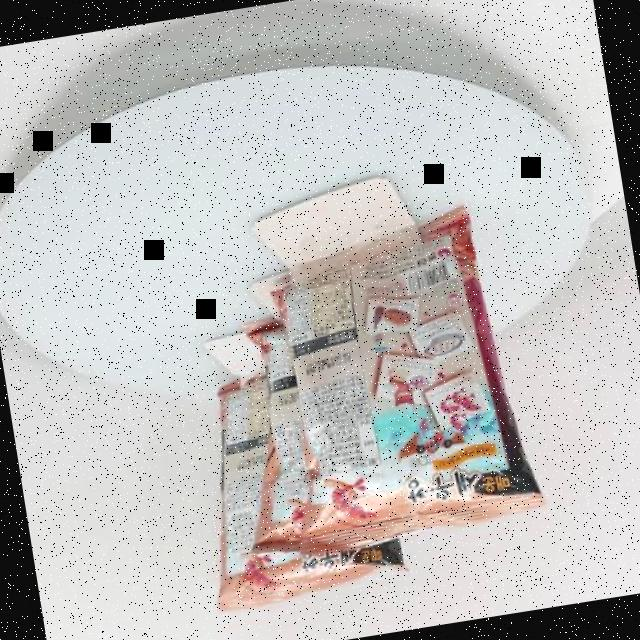snack_bag: (138, 173, 600, 638)
